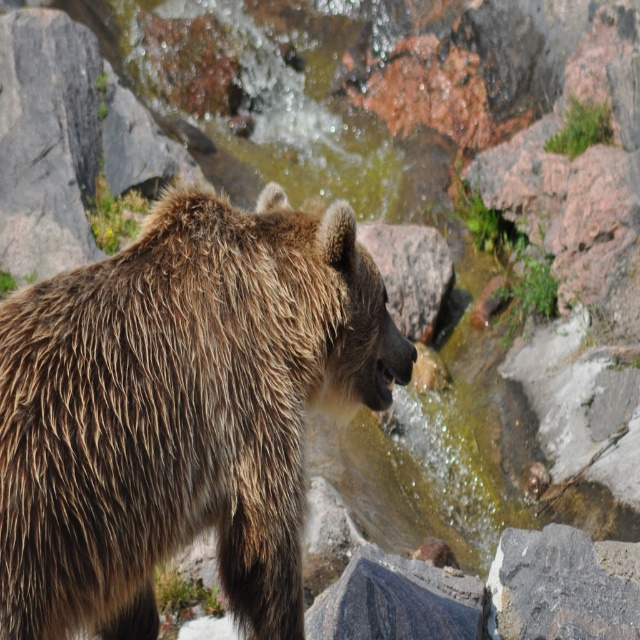Brown bear: (0, 171, 417, 639)
